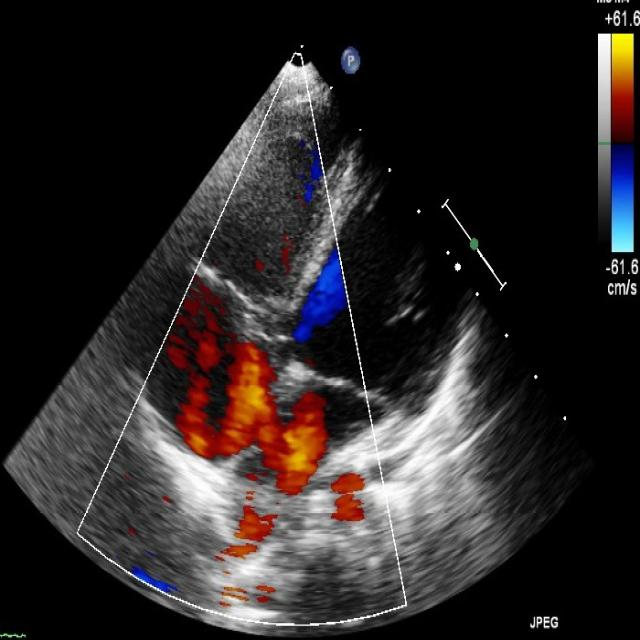ASDType2: (209, 338, 327, 496)
